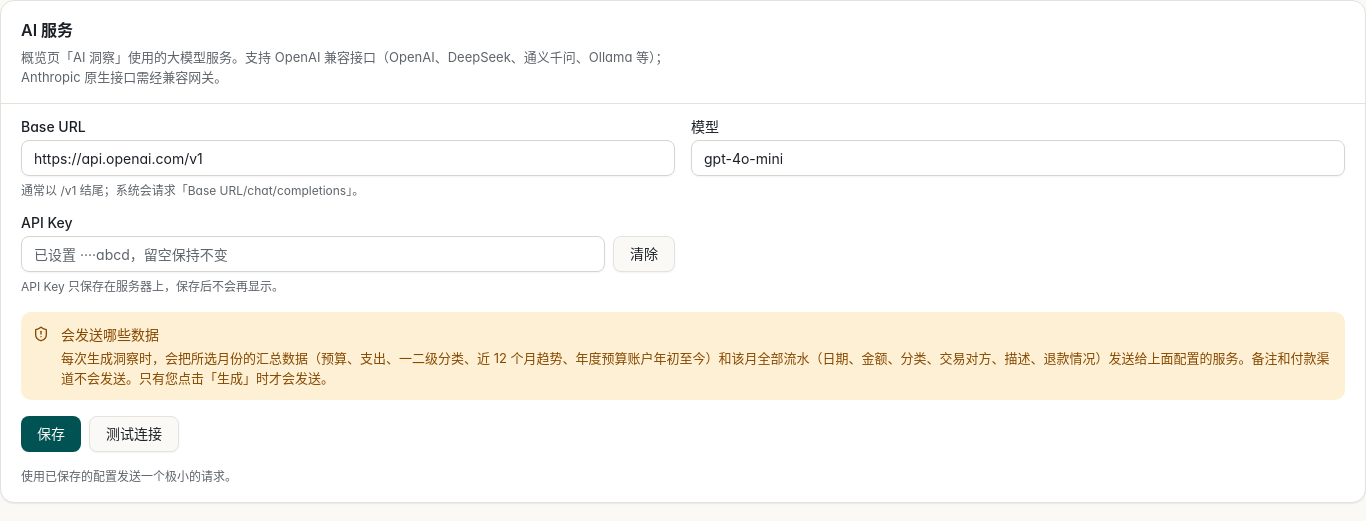
it: AiSection › refuses a key that cannot travel in an HTTP header
Type "sk-全角ｋｅｙ" into the password field labelled "API Key" at (313, 254), box top-left (21, 236), bottom-right (605, 272)
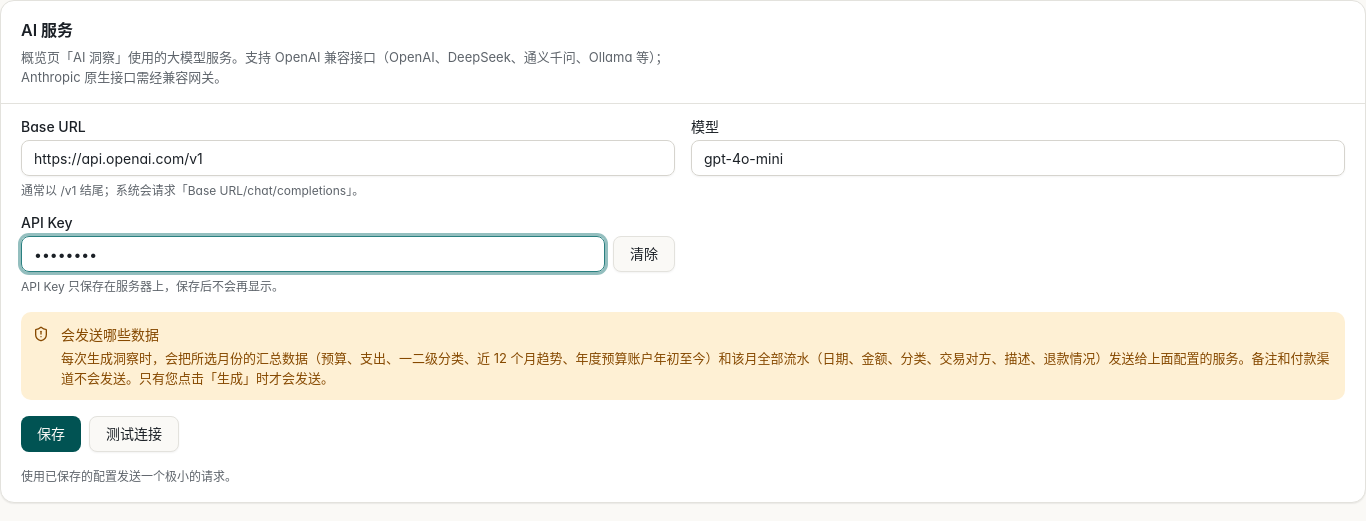
Click the button "保存" at (51, 434), box top-left (21, 416), bottom-right (81, 452)
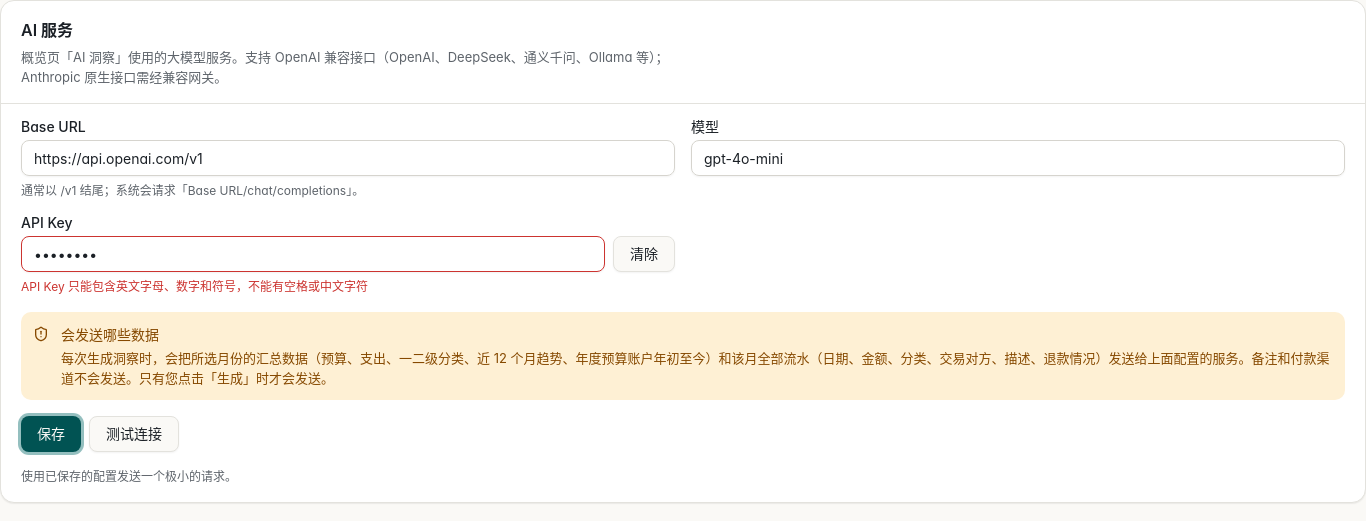
Now the text "API Key 只能包含英文字母、数字和符号，不能有空格或中文字符" is shown, box top-left (21, 279), bottom-right (368, 294)
